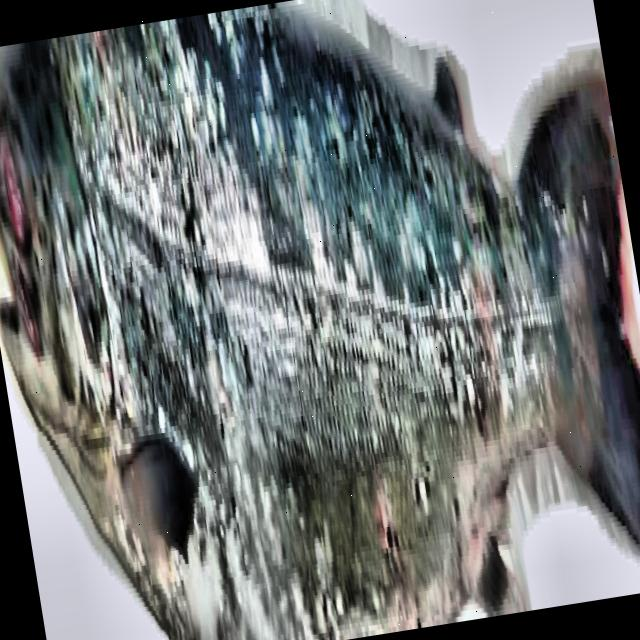mild_red: (56, 3, 588, 640)
